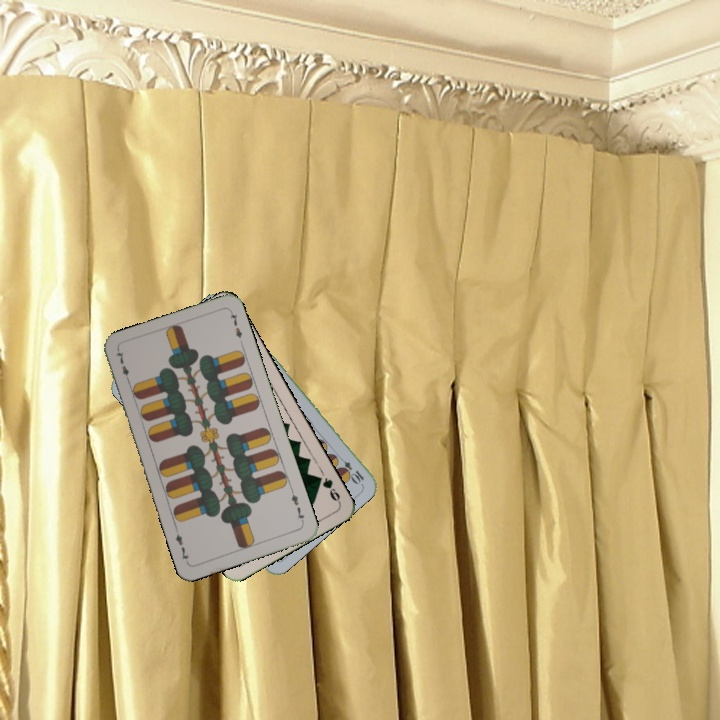E10: (333, 452, 367, 486)
E7: (112, 347, 133, 386), (287, 487, 307, 526)
G9: (312, 472, 343, 506)
